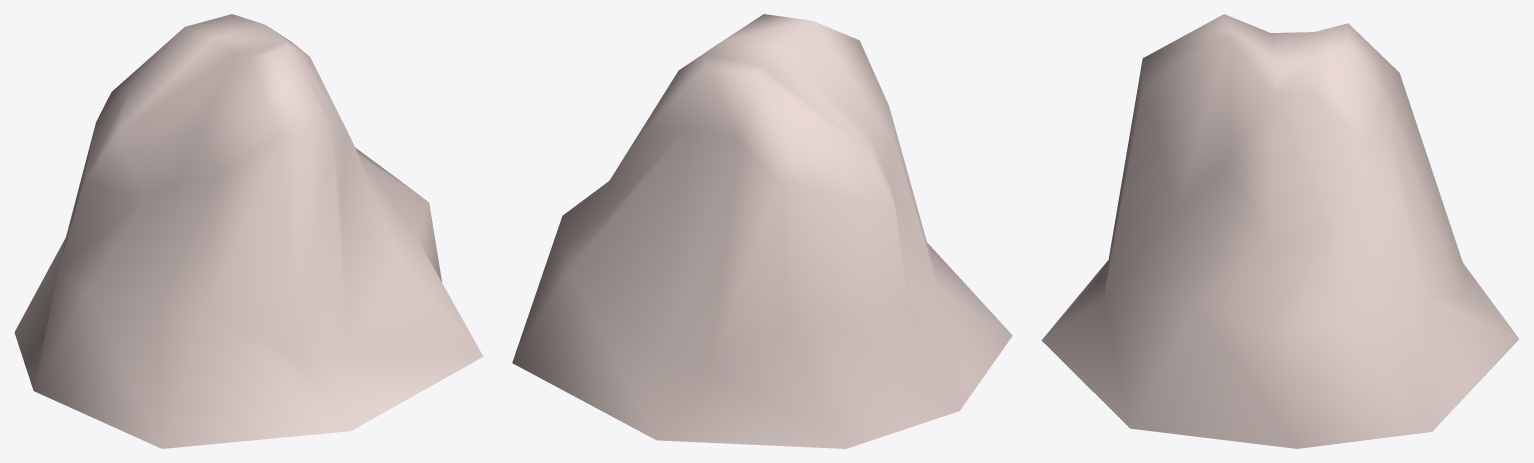
The model's file is ytlds_Object (31).fbx.
The picture shows the model from 3 angles, left to right: view 1: azimuth 30°, elevation 25°; view 2: azimuth 150°, elevation 25°; view 3: azimuth 270°, elevation 25°; orthographic projection. The views are drawn at different scales.
Visible parts, largest first — view 1: Object31; view 2: Object31; view 3: Object31.
Part boxes in pixels (bbox=[...]): Object31: bbox=[14, 14, 483, 448]; Object31: bbox=[512, 14, 1012, 448]; Object31: bbox=[1041, 14, 1518, 448].
Size of the model in its own units: 176 by 130 by 173.
